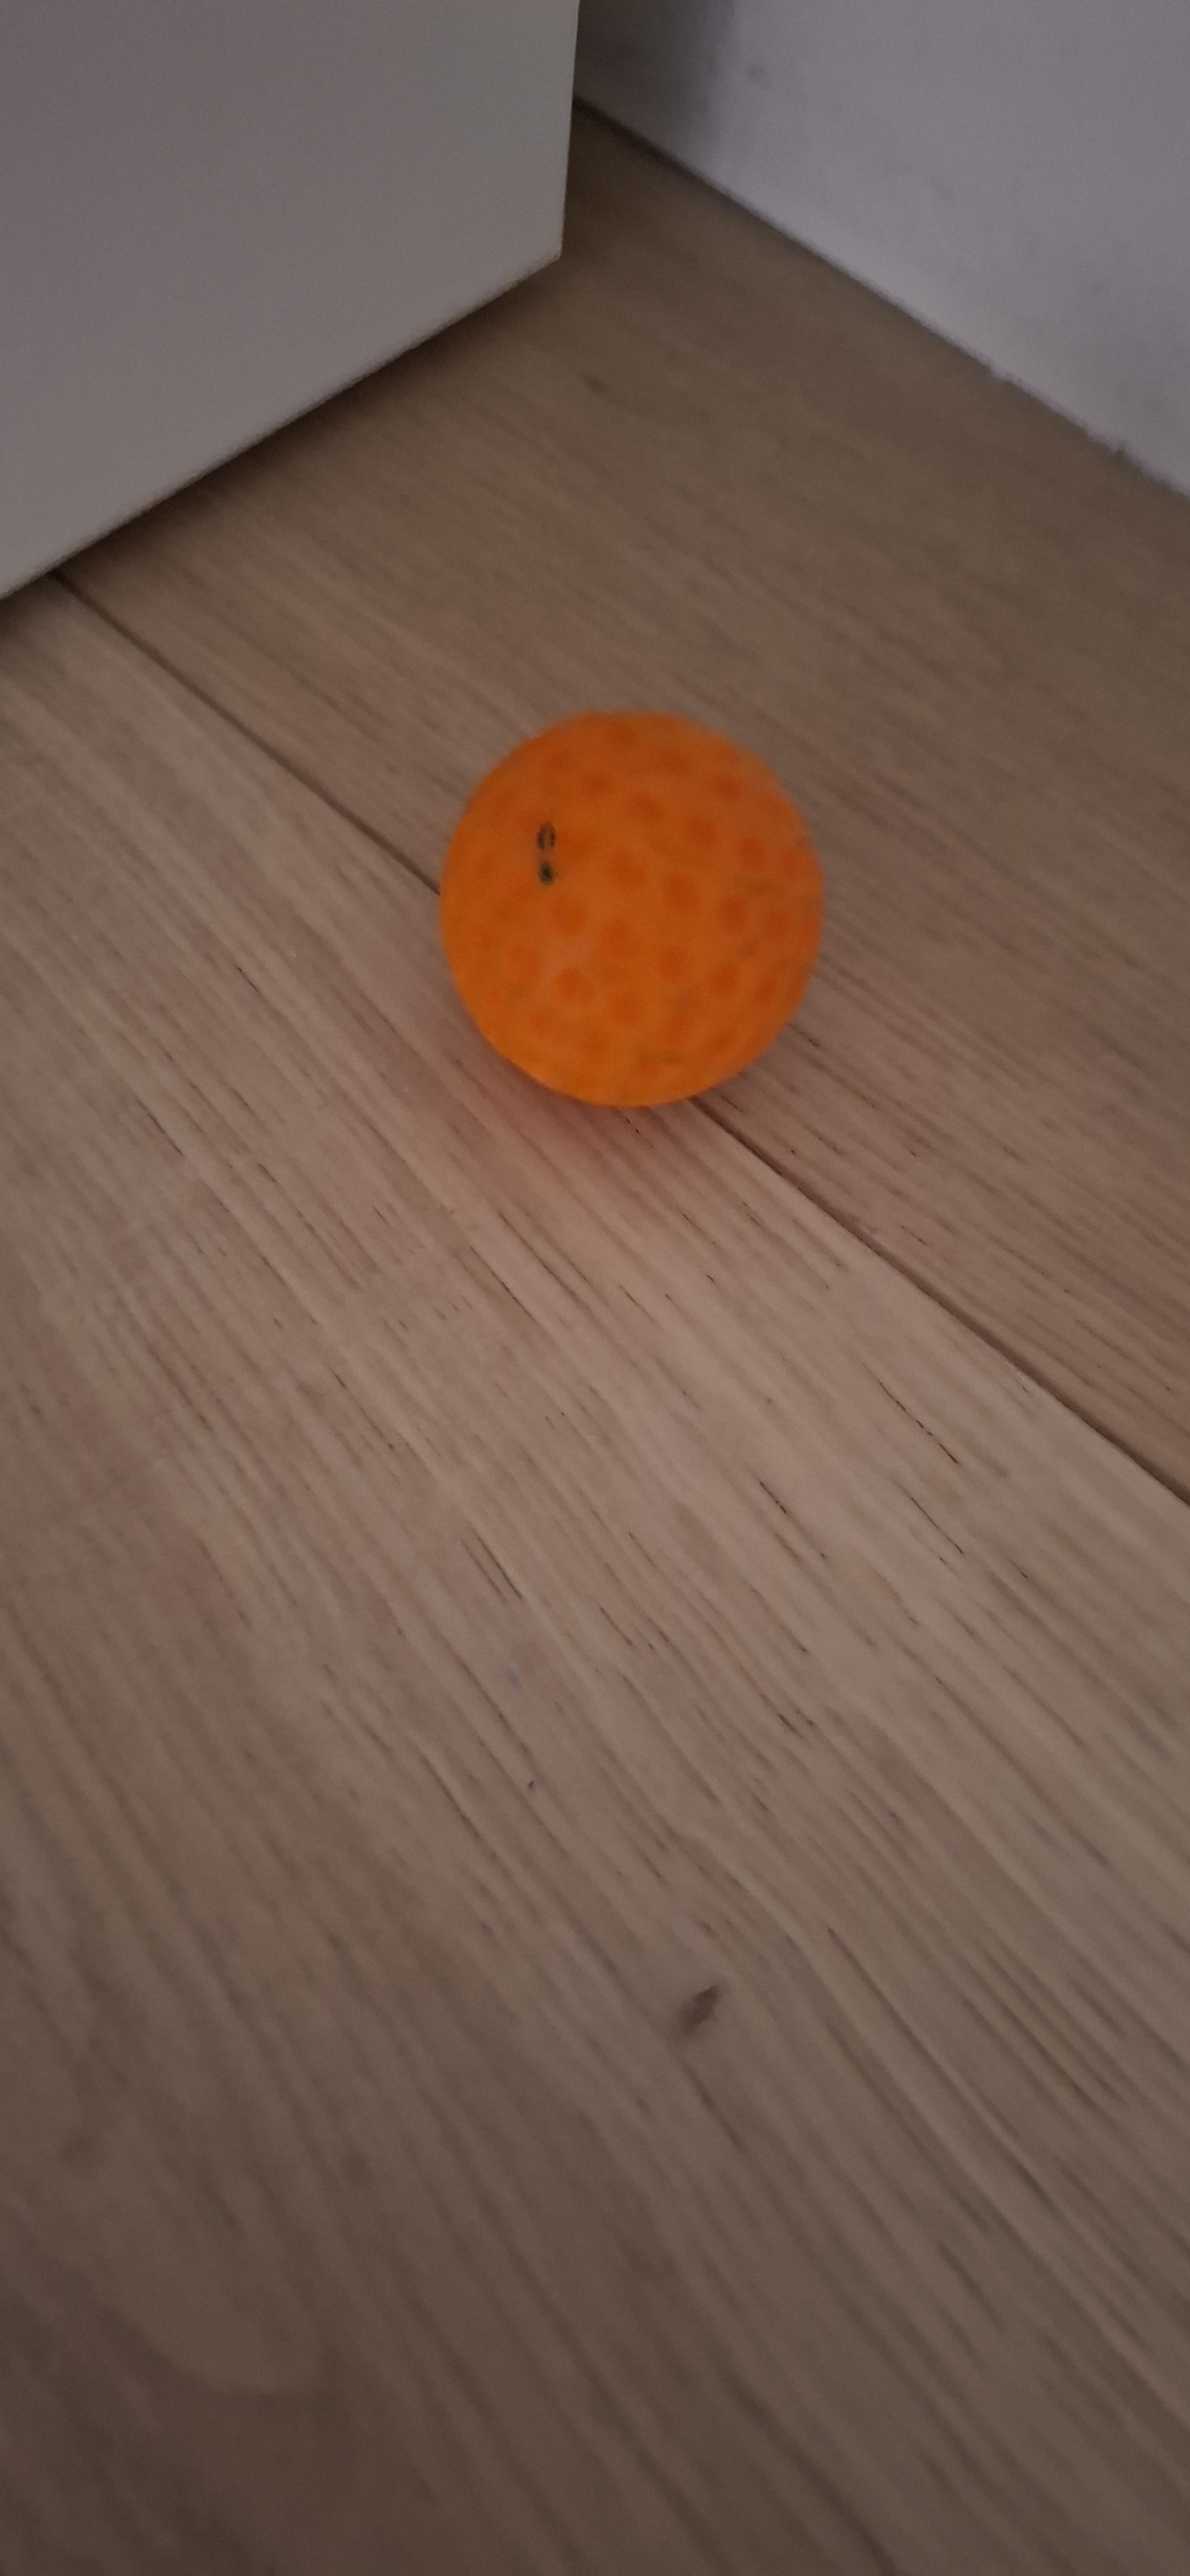ball: (334, 808, 511, 1667)
